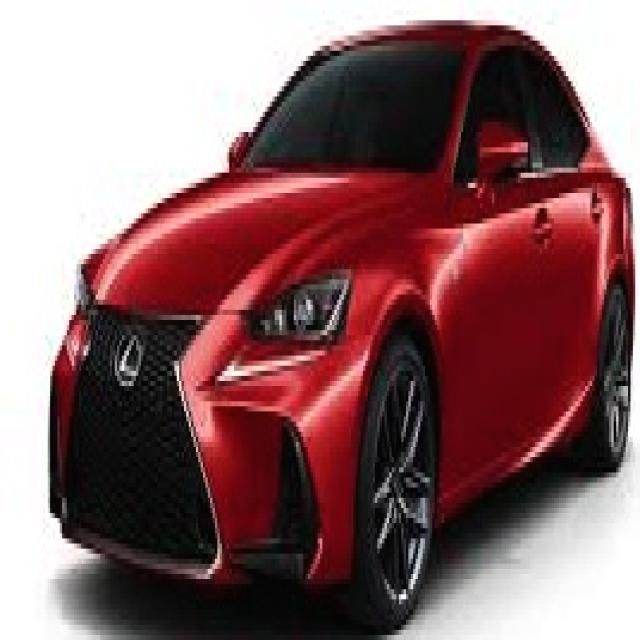maroon: (48, 0, 640, 620)
